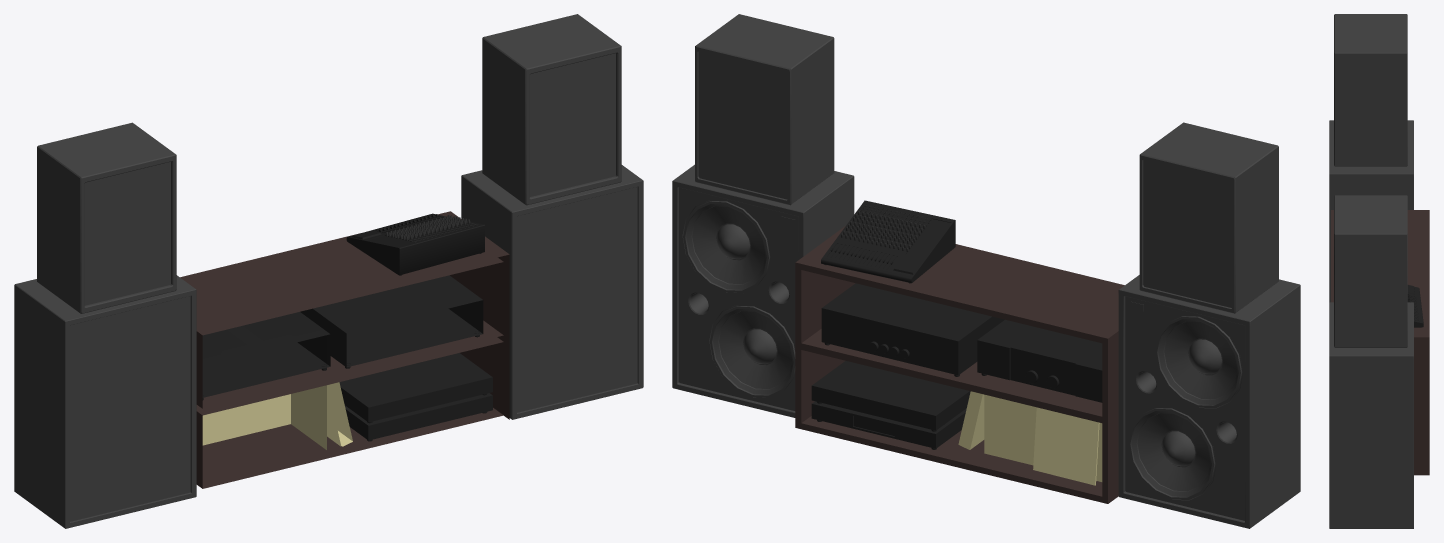
The model's file is AUDIO_SET.fbx.
The picture shows the model from 3 angles, left to right: view 1: azimuth 30°, elevation 25°; view 2: azimuth 150°, elevation 25°; view 3: azimuth 270°, elevation 25°; orthographic projection. The views are drawn at different scales.
Parts seen in each view (by area): view 1: Audioset; view 2: Audioset; view 3: Audioset.
Part boxes in pixels (x1,y1,x2,y2): Audioset: (14, 14, 643, 528); Audioset: (672, 14, 1300, 528); Audioset: (1329, 14, 1429, 528).
Bounding box in the file's own units: 331 × 189 × 59.67.
